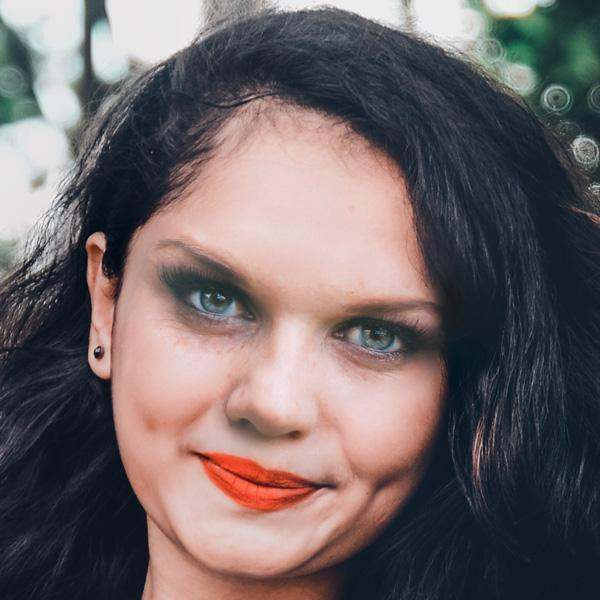Eyes: (159, 264, 260, 334), (325, 310, 424, 364)
